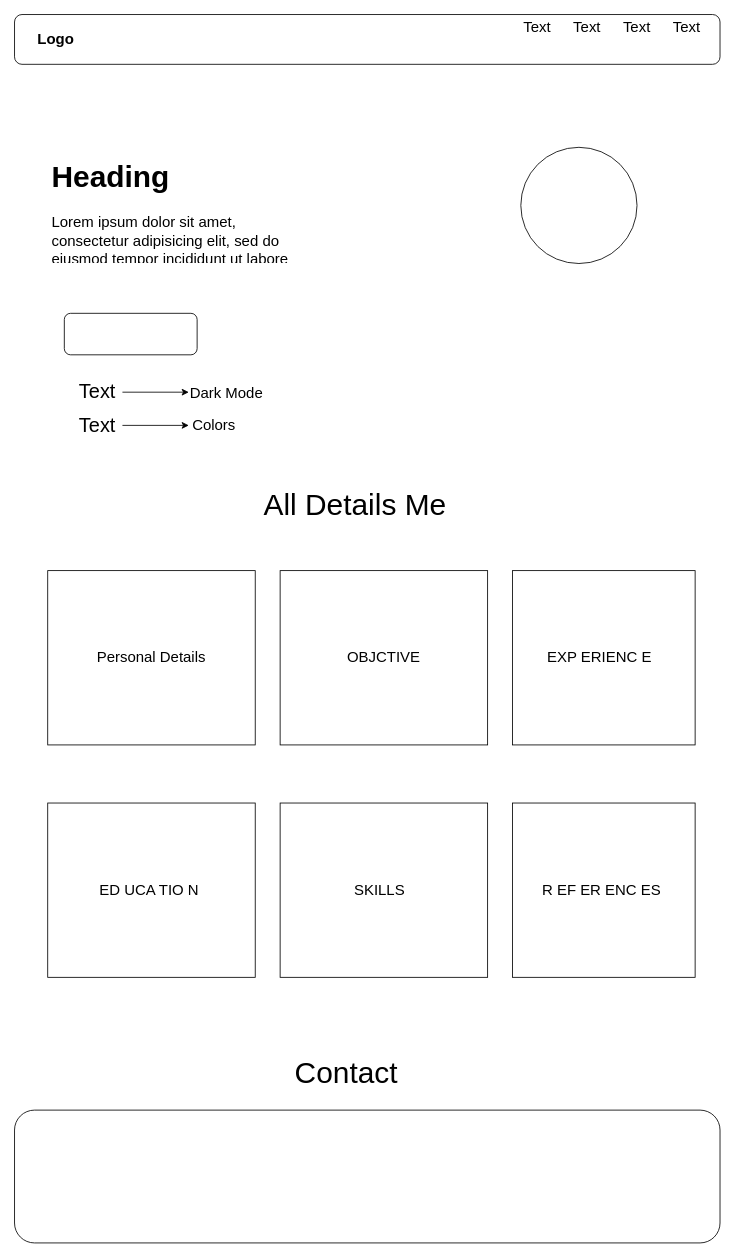
Some shapes in this 735 by 1257 pixel diagram are drawn without their labels. The box of each missing label's shape, as (x1, y1, x2, y2) in pixels:
Button: (63, 312, 197, 355)
My Image: (520, 146, 637, 264)
phone email tiktok: (14, 1109, 720, 1243)
